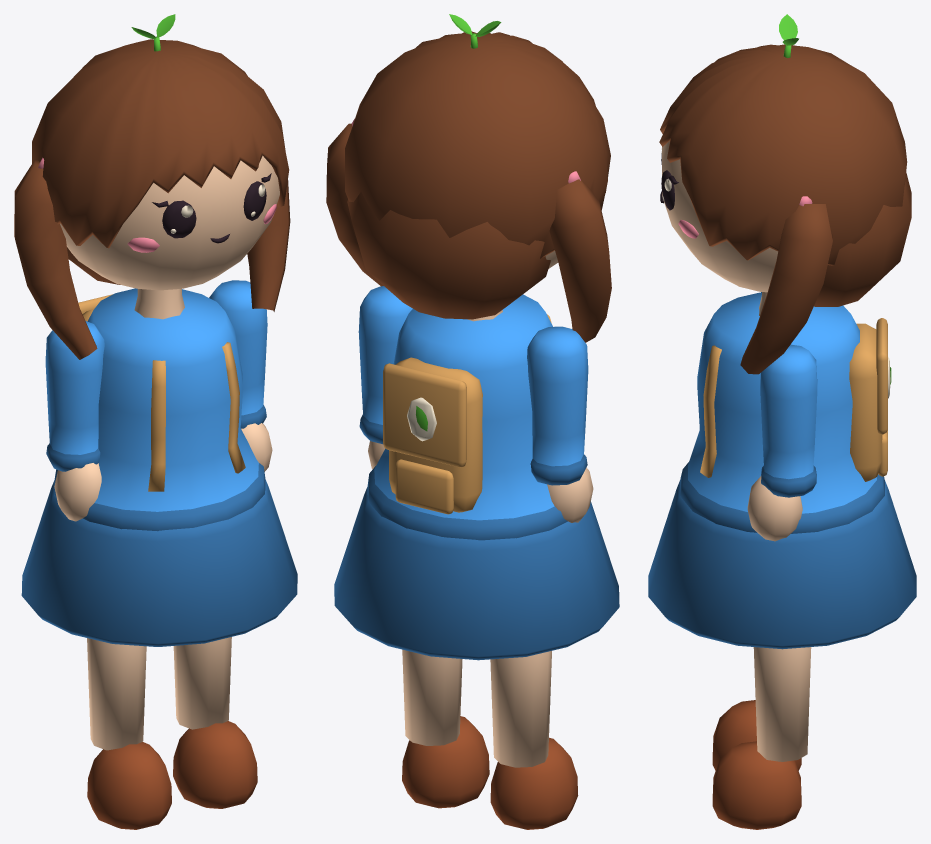
The model's file is hero-woman-tall.glb.
3 views of the same model, side by side, from view 1: azimuth 30°, elevation 25°; view 2: azimuth 150°, elevation 25°; view 3: azimuth 270°, elevation 25° (orthographic). The views are drawn at different scales.
Parts seen in each view (by area): view 1: body, head, leg-left, leg-right, arm-left, arm-right; view 2: body, head, leg-left, leg-right, arm-left, arm-right; view 3: body, head, leg-right, arm-right, leg-left, head-leaf.
Boxes of the visible parts, left/top/right/bottom form: body: left=21, top=288, right=297, bottom=646; head: left=14, top=39, right=290, bottom=359; leg-left: left=87, top=638, right=171, bottom=829; leg-right: left=173, top=637, right=257, bottom=808; arm-left: left=45, top=321, right=104, bottom=521; arm-right: left=209, top=280, right=272, bottom=471; body: left=334, top=294, right=619, bottom=660; head: left=326, top=31, right=611, bottom=342; leg-left: left=490, top=651, right=578, bottom=829; leg-right: left=402, top=649, right=489, bottom=808; arm-left: left=527, top=326, right=593, bottom=522; arm-right: left=358, top=286, right=412, bottom=469; body: left=648, top=292, right=916, bottom=649; head: left=659, top=44, right=911, bottom=374; leg-right: left=712, top=647, right=811, bottom=829; arm-right: left=747, top=344, right=817, bottom=541; leg-left: left=712, top=700, right=801, bottom=770; head-leaf: left=779, top=14, right=798, bottom=57.
Size of the model in its own units: 0.9864 by 2.69 by 0.8469.
